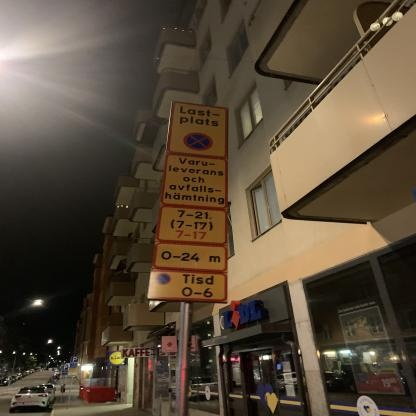lastplats: (164, 99, 228, 158)
